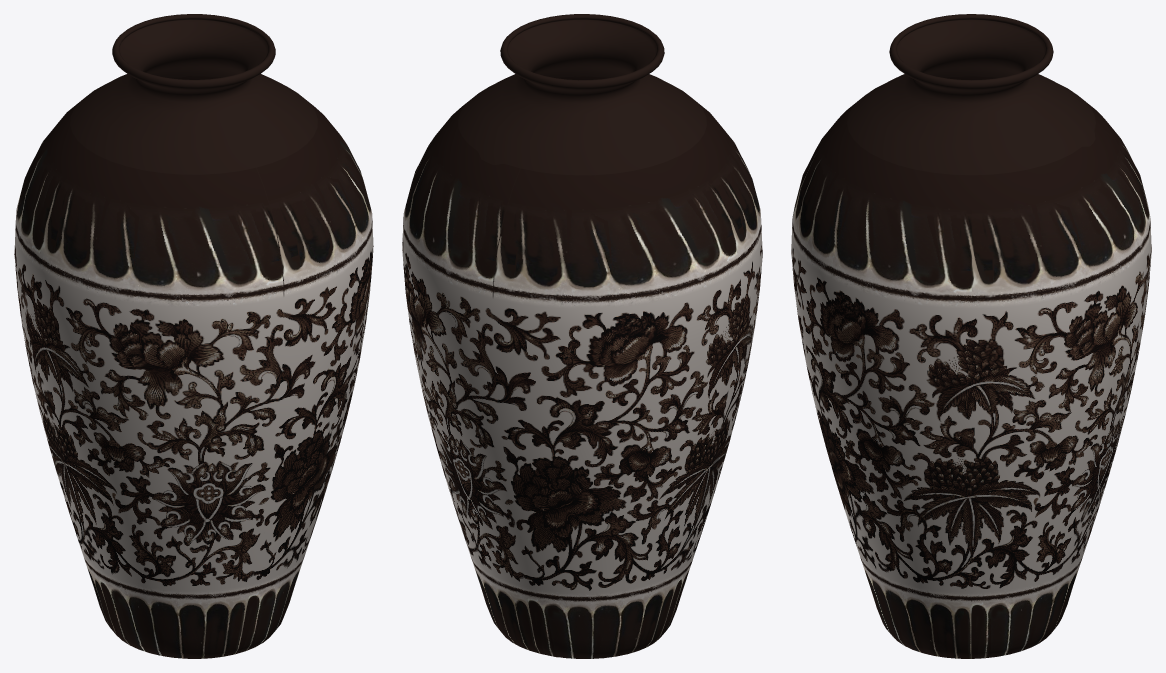
The model's file is vase2.glb.
The picture shows the model from 3 angles, left to right: view 1: azimuth 30°, elevation 25°; view 2: azimuth 150°, elevation 25°; view 3: azimuth 270°, elevation 25°; orthographic projection.
Parts seen in each view (by area): view 1: Cylinder006; view 2: Cylinder006; view 3: Cylinder006.
Part boxes in pixels (left/top/right/bottom): Cylinder006: left=14, top=14, right=373, bottom=658; Cylinder006: left=402, top=14, right=762, bottom=658; Cylinder006: left=791, top=14, right=1151, bottom=658.
Size of the model in its own units: 1.14 by 2.03 by 1.14.
Materials: 1 (1 with a texture image).
